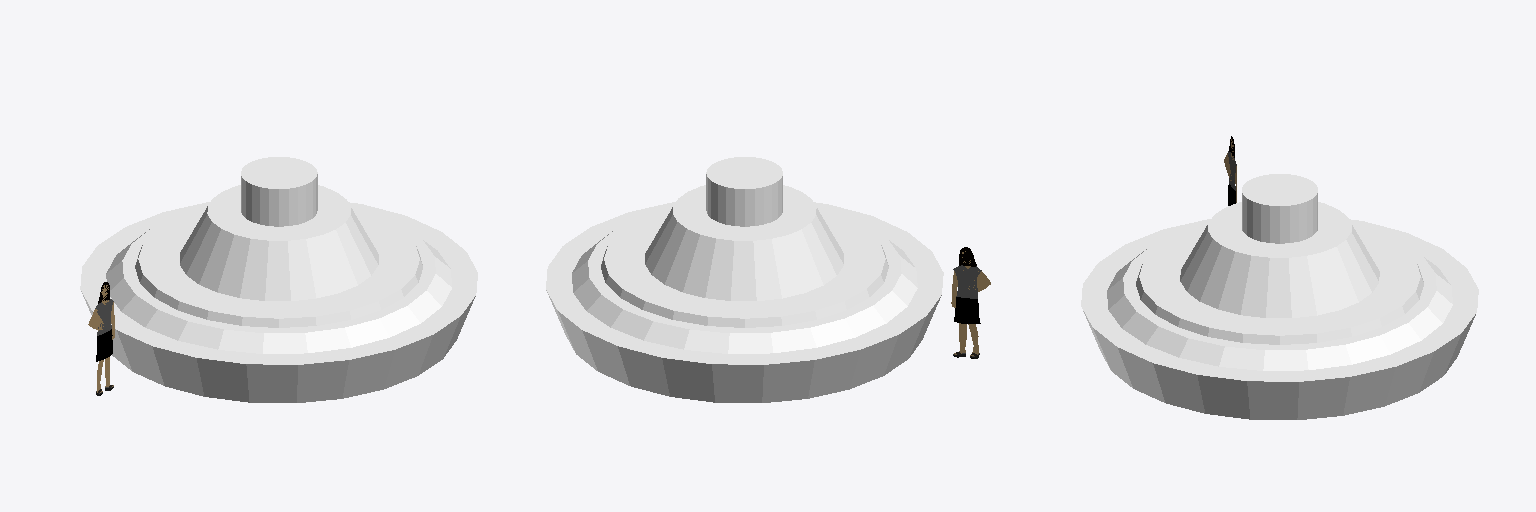
File: Fountain.obj
3 renders of one model, left to right at view 1: azimuth 30°, elevation 25°; view 2: azimuth 150°, elevation 25°; view 3: azimuth 270°, elevation 25°, orthographic.
Visible parts, largest first — view 1: Mesh2 Model, Mesh1 Sophie1 Model; view 2: Mesh2 Model, Mesh1 Sophie1 Model; view 3: Mesh2 Model, Mesh1 Sophie1 Model.
Part boxes in pixels (bbox=[...]): Mesh2 Model: bbox=[80, 157, 477, 402]; Mesh1 Sophie1 Model: bbox=[88, 282, 114, 395]; Mesh2 Model: bbox=[546, 157, 943, 402]; Mesh1 Sophie1 Model: bbox=[951, 247, 990, 358]; Mesh2 Model: bbox=[1081, 174, 1478, 419]; Mesh1 Sophie1 Model: bbox=[1224, 136, 1236, 205].
Bounding box in the file's own units: 6.22 × 2.35 × 5.48.